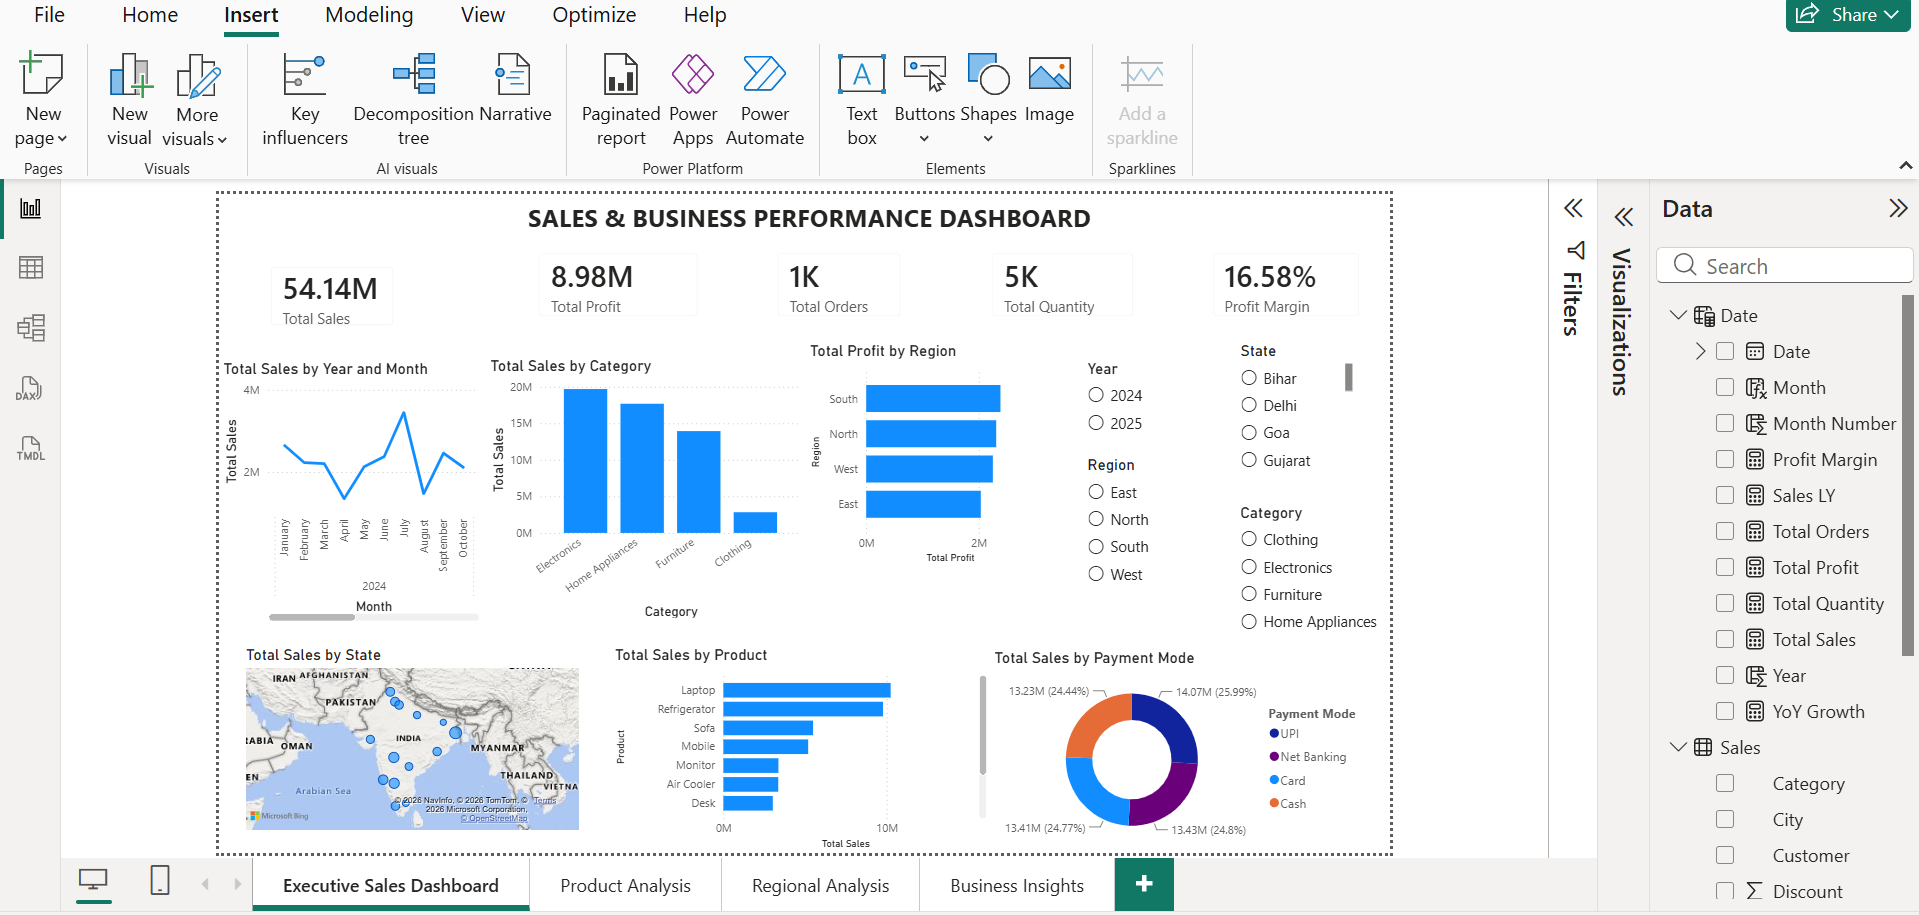

The page's visual inventory and layout, read from the dashboard file:
{"tool":"powerbi","page":{"name":"Executive Sales Dashboard","canvas":[1280,720],"ordinal":0},"visuals":[{"type":"cardVisual","fields":{"Data":["Date.Total Sales"]},"box":[39.7,62.4,168.2,98.3],"z":0},{"type":"cardVisual","fields":{"Data":["Date.Total Profit"]},"box":[332.6,47.2,207.9,103.9],"z":1000},{"type":"cardVisual","fields":{"Data":["Date.Total Orders"]},"box":[593.4,47.2,168.2,103.9],"z":2000},{"type":"cardVisual","fields":{"Data":["Date.Total Quantity"]},"box":[827.7,47.2,189,103.9],"z":3000},{"type":"cardVisual","fields":{"Data":["Date.Profit Margin"]},"box":[1069.6,47.2,194.6,103.9],"z":4000},{"type":"lineChart","fields":{"Y":["Date.Total Sales"],"Category":["Date.Year","Date.Month"]},"box":[0,179.5,289.1,291],"z":5000},{"type":"clusteredColumnChart","fields":{"Category":["Sales.Category"],"Y":["Date.Total Sales"]},"box":[291,177.6,349.6,291],"z":6000},{"type":"clusteredBarChart","fields":{"Category":["Sales.Region"],"Y":["Date.Total Profit"]},"box":[640.6,160.6,264.6,247.6],"z":7000},{"type":"map","fields":{"Category":["Sales.State"],"Size":["Date.Total Sales"]},"box":[24.6,493.2,374.2,206],"z":8000},{"type":"clusteredBarChart","fields":{"Category":["Sales.Product"],"Y":["Date.Total Sales"]},"box":[427.1,493.2,415.8,226.8],"z":9000},{"type":"donutChart","fields":{"Category":["Sales.Payment Mode"],"Y":["Date.Total Sales"]},"box":[842.8,497,421.4,223],"z":10000},{"type":"listSlicer","fields":{"Values":["Date.Year"]},"box":[944.9,179.5,71.8,94.5],"z":11000},{"type":"listSlicer","fields":{"Values":["Sales.Region"]},"box":[944.9,285.4,100.2,149.3],"z":12000},{"type":"listSlicer","fields":{"Values":["Sales.Category"]},"box":[1111.2,338.3,168.2,168.2],"z":13000},{"type":"listSlicer","fields":{"Values":["Sales.State"]},"box":[1111.2,160.6,132.3,143.6],"z":14000},{"type":"textbox","box":[332.6,1.9,803.2,60.5],"z":14001}]}

Visuals, with their boxes on the page's 1280x720 design canvas (x1, y1, x2, y2). These are canvas units, not pixel positions in the 1919x915 screenshot, which may show the page scaled, cropped or inside an application window:
cardVisual - Date.Total Sales: rect(40, 62, 208, 161)
cardVisual - Date.Total Profit: rect(333, 47, 540, 151)
cardVisual - Date.Total Orders: rect(593, 47, 762, 151)
cardVisual - Date.Total Quantity: rect(828, 47, 1017, 151)
cardVisual - Date.Profit Margin: rect(1070, 47, 1264, 151)
lineChart - Date.Total Sales x Date.Year: rect(0, 180, 289, 470)
clusteredColumnChart - Sales.Category x Date.Total Sales: rect(291, 178, 641, 469)
clusteredBarChart - Sales.Region x Date.Total Profit: rect(641, 161, 905, 408)
map - Sales.State x Date.Total Sales: rect(25, 493, 399, 699)
clusteredBarChart - Sales.Product x Date.Total Sales: rect(427, 493, 843, 720)
donutChart - Sales.Payment Mode x Date.Total Sales: rect(843, 497, 1264, 720)
listSlicer - Date.Year: rect(945, 180, 1017, 274)
listSlicer - Sales.Region: rect(945, 285, 1045, 435)
listSlicer - Sales.Category: rect(1111, 338, 1279, 506)
listSlicer - Sales.State: rect(1111, 161, 1244, 304)
textbox: rect(333, 2, 1136, 62)
